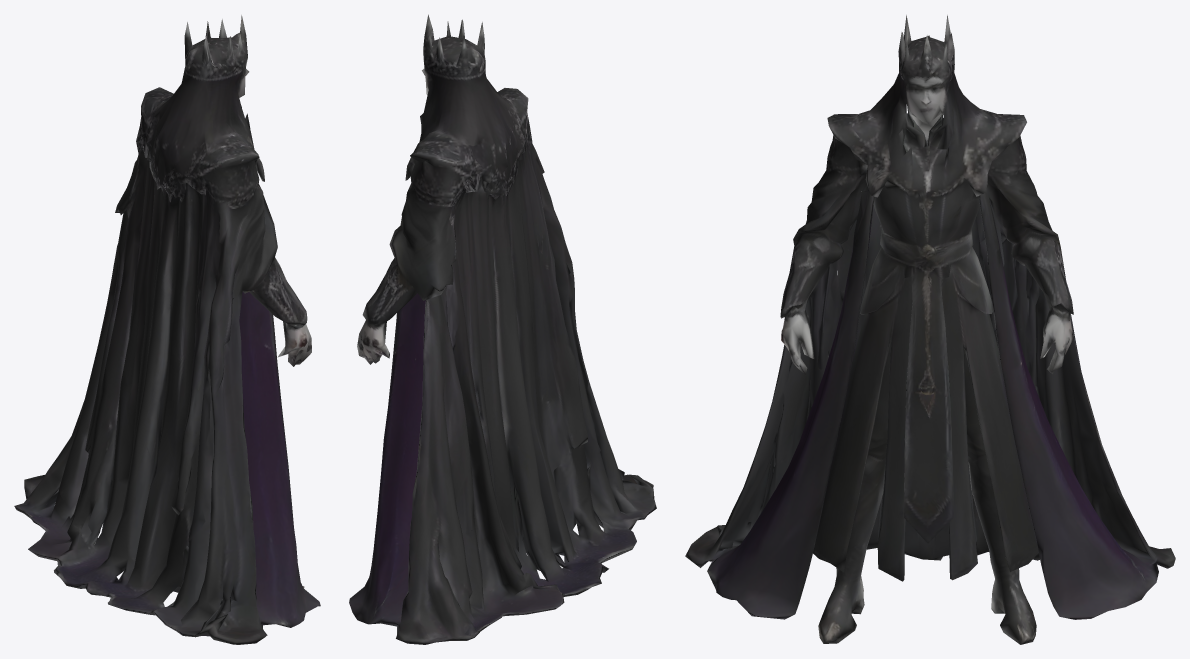
3 views of the same model, side by side, from view 1: azimuth 30°, elevation 25°; view 2: azimuth 150°, elevation 25°; view 3: azimuth 270°, elevation 25° (orthographic). The views are drawn at different scales.
Visible parts, largest first — view 1: tripo_node_2d553e02-b247-4457-b9cb-570916cf143f; view 2: tripo_node_2d553e02-b247-4457-b9cb-570916cf143f; view 3: tripo_node_2d553e02-b247-4457-b9cb-570916cf143f.
Boxes of the visible parts, box(x1,y1,x2,y2) form: tripo_node_2d553e02-b247-4457-b9cb-570916cf143f: box(14, 15, 320, 644); tripo_node_2d553e02-b247-4457-b9cb-570916cf143f: box(349, 14, 656, 644); tripo_node_2d553e02-b247-4457-b9cb-570916cf143f: box(685, 15, 1175, 644).
Bounding box in the file's own units: 0.378 × 1.01 × 0.7425.
1 material, 1 textured.
